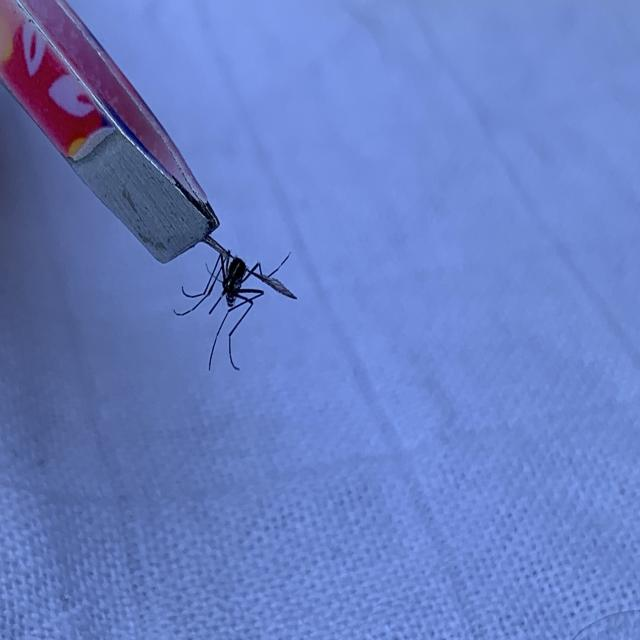albopictus: (165, 198, 304, 372)
